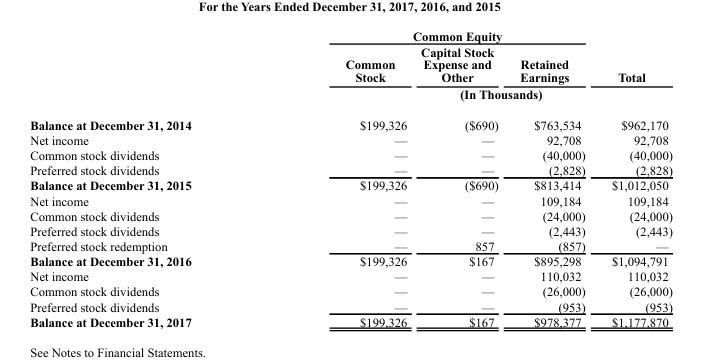table: (29, 28, 671, 328)
table column: (29, 28, 267, 328), (267, 28, 413, 328), (413, 28, 508, 328), (508, 28, 597, 328), (597, 28, 671, 328)
table column header: (29, 28, 671, 109)
table row: (29, 43, 671, 85), (29, 85, 671, 109), (29, 109, 671, 132), (29, 207, 671, 223), (29, 28, 671, 43), (29, 132, 671, 147), (29, 147, 671, 162), (29, 162, 671, 177), (29, 177, 671, 192), (29, 192, 671, 207), (29, 223, 671, 238), (29, 238, 671, 253), (29, 253, 671, 268), (29, 268, 671, 283), (29, 283, 671, 298), (29, 298, 671, 313), (29, 313, 671, 328)
table spanning cell: (267, 85, 671, 109), (267, 28, 597, 43), (597, 28, 671, 85)
